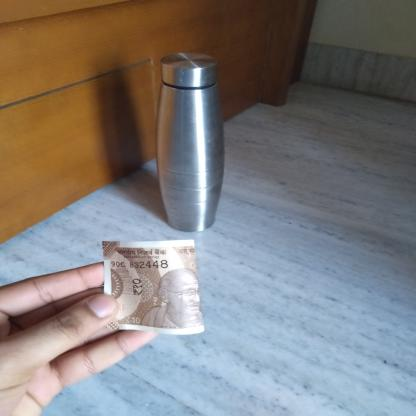New10Front: (100, 242, 206, 332)
